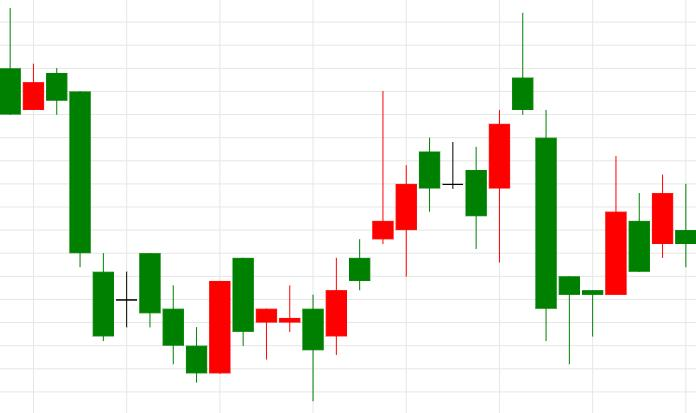shooting_star_fall: (326, 11, 533, 355)
